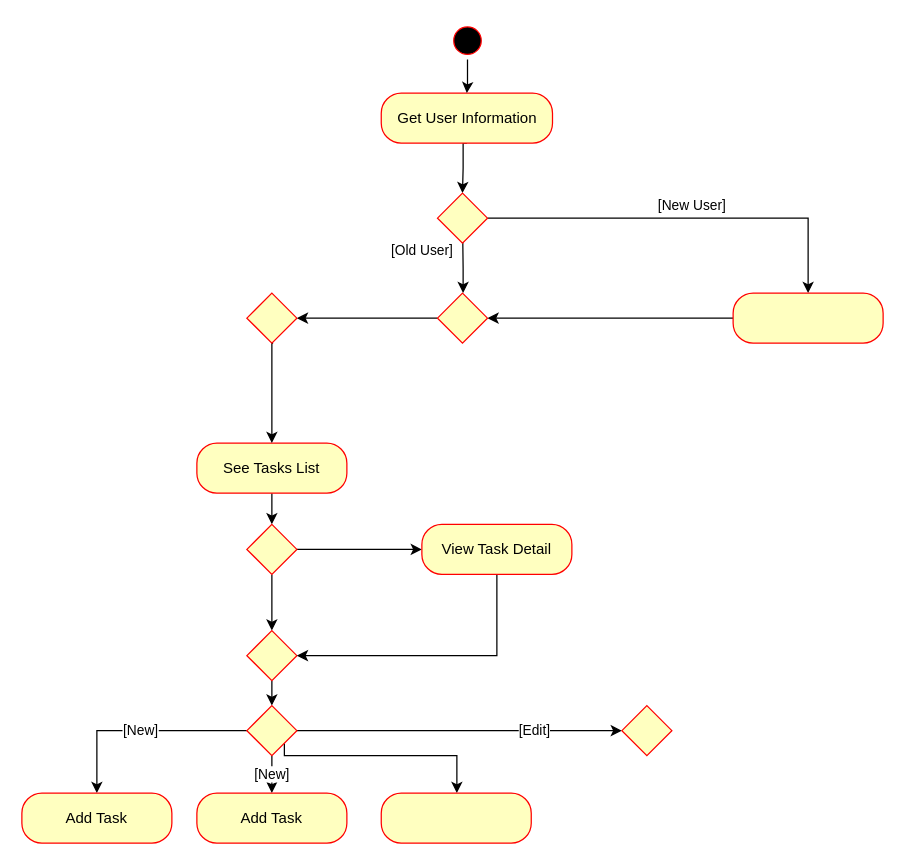
This 905x865 diagram has some shape labels left out. The shapes that lost their labels are listed below. From the top down, each one's centre as x and y in pixels, then its label:
pixel 807 317: Create New User
pixel 455 817: Assign Task
